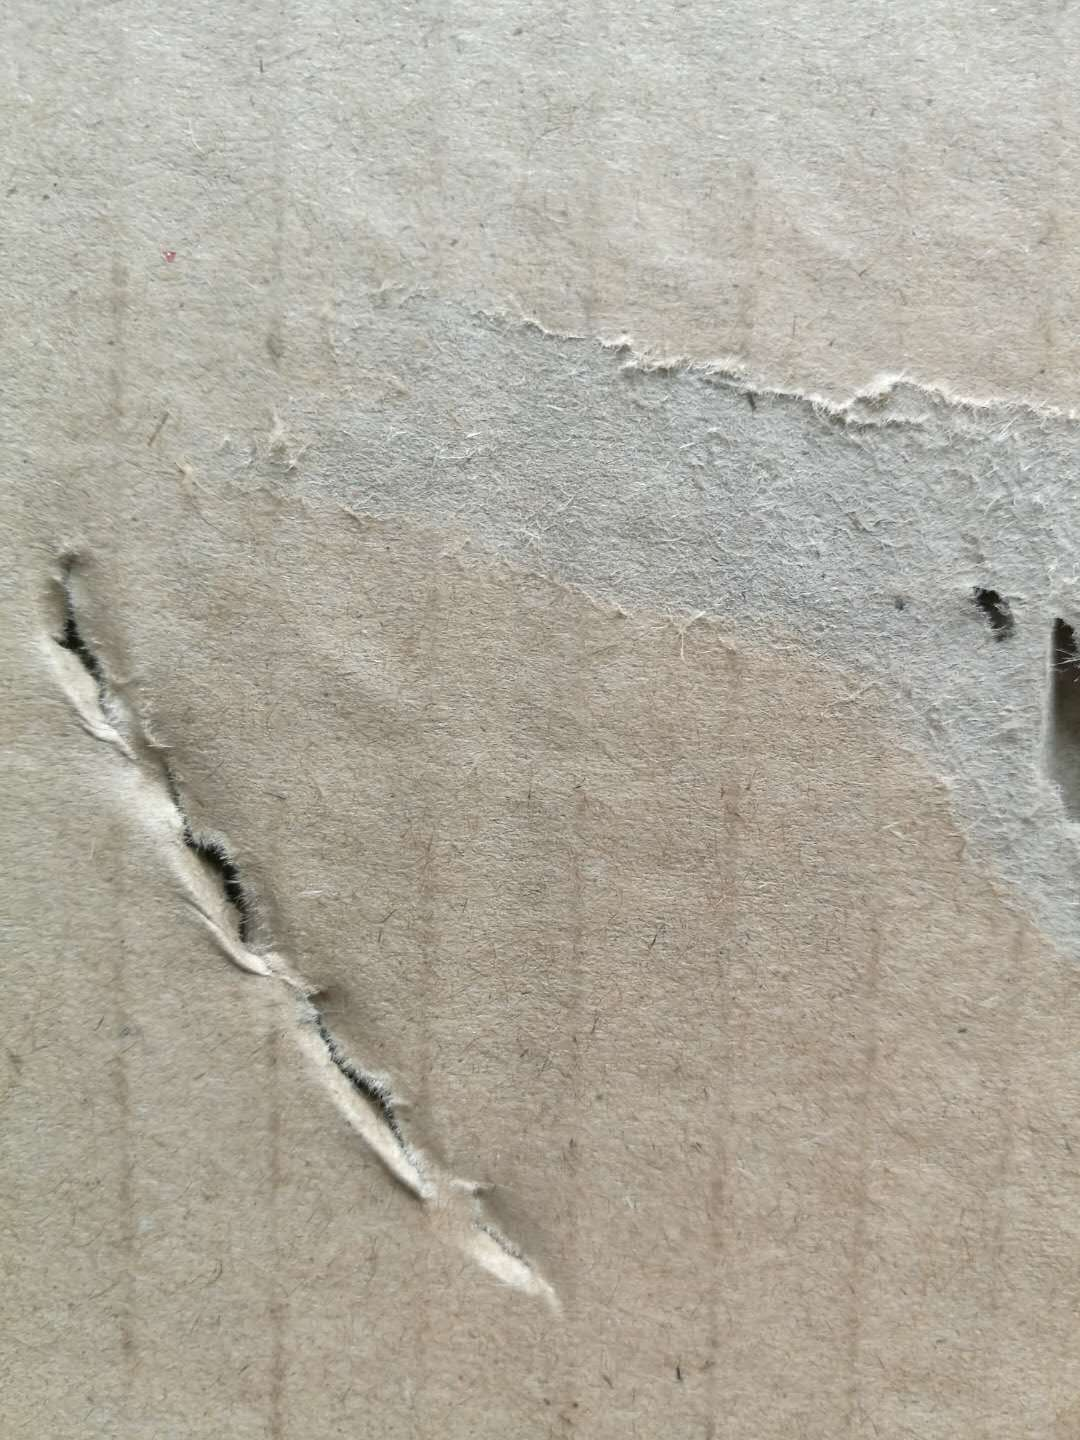defect: (132, 236, 1080, 996), (5, 508, 606, 1342)
